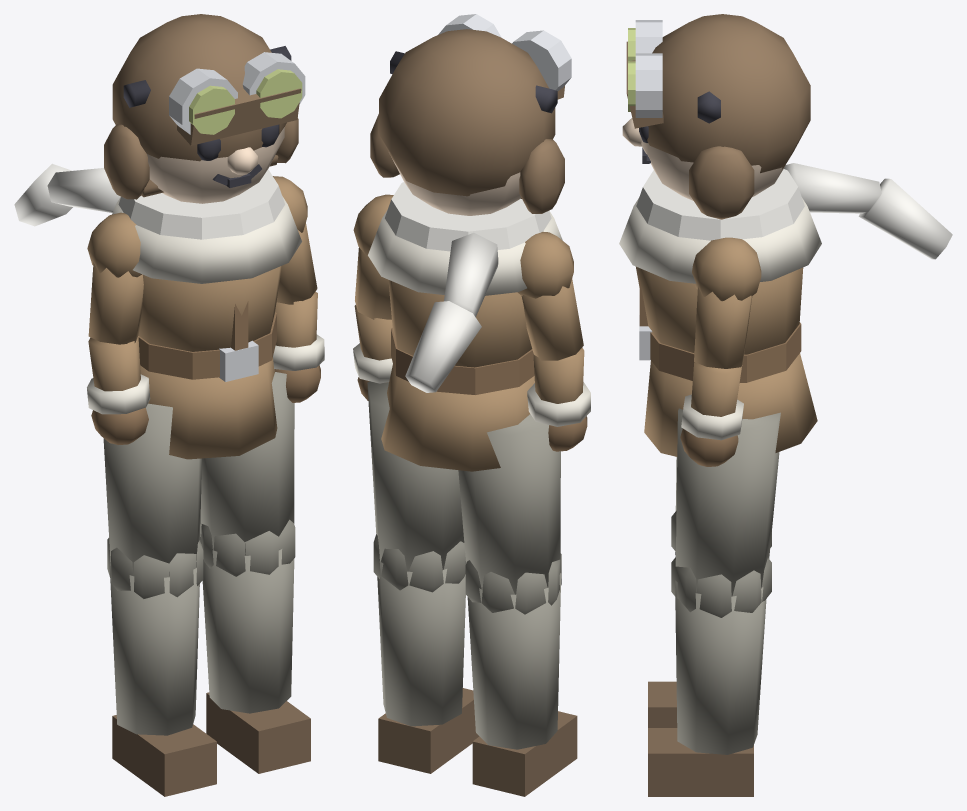
The model's file is meeple_18_pilot_stand.glb.
The picture shows the model from 3 angles, left to right: view 1: azimuth 30°, elevation 25°; view 2: azimuth 150°, elevation 25°; view 3: azimuth 270°, elevation 25°; orthographic projection.
Parts seen in each view (by area): view 1: meeple_18_pilot_stand; view 2: meeple_18_pilot_stand; view 3: meeple_18_pilot_stand.
Part boxes in pixels (x1=…): meeple_18_pilot_stand: x1=14, y1=14, x2=324, y2=796; meeple_18_pilot_stand: x1=353, y1=14, x2=590, y2=796; meeple_18_pilot_stand: x1=619, y1=14, x2=952, y2=796.
Bounding box in the file's own units: 0.5121 × 1.57 × 0.6446.
